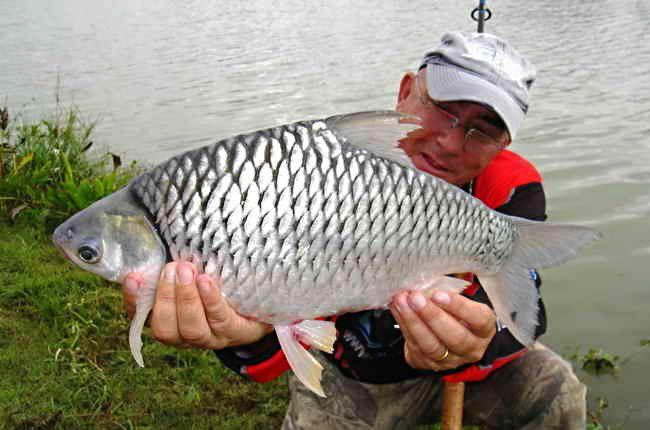Silver Barb: (66, 101, 600, 383)
